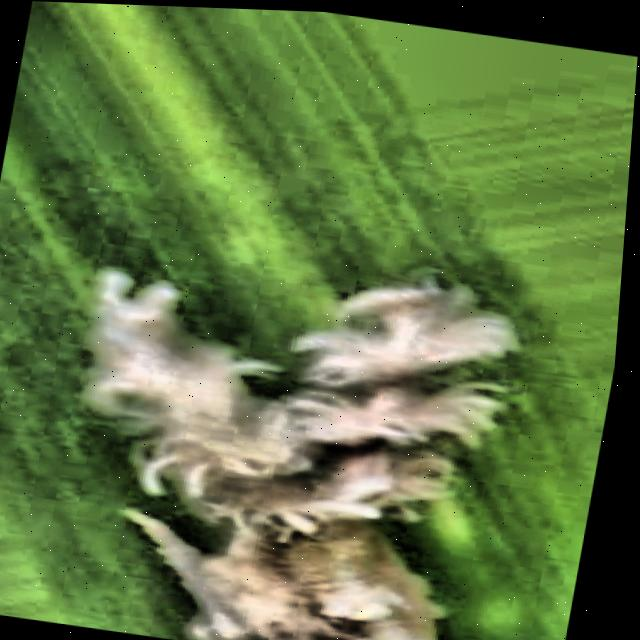Pyrilla-perpusilla: (0, 172, 630, 640)
